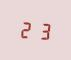three: (35, 20, 50, 41)
two: (19, 18, 34, 39)
